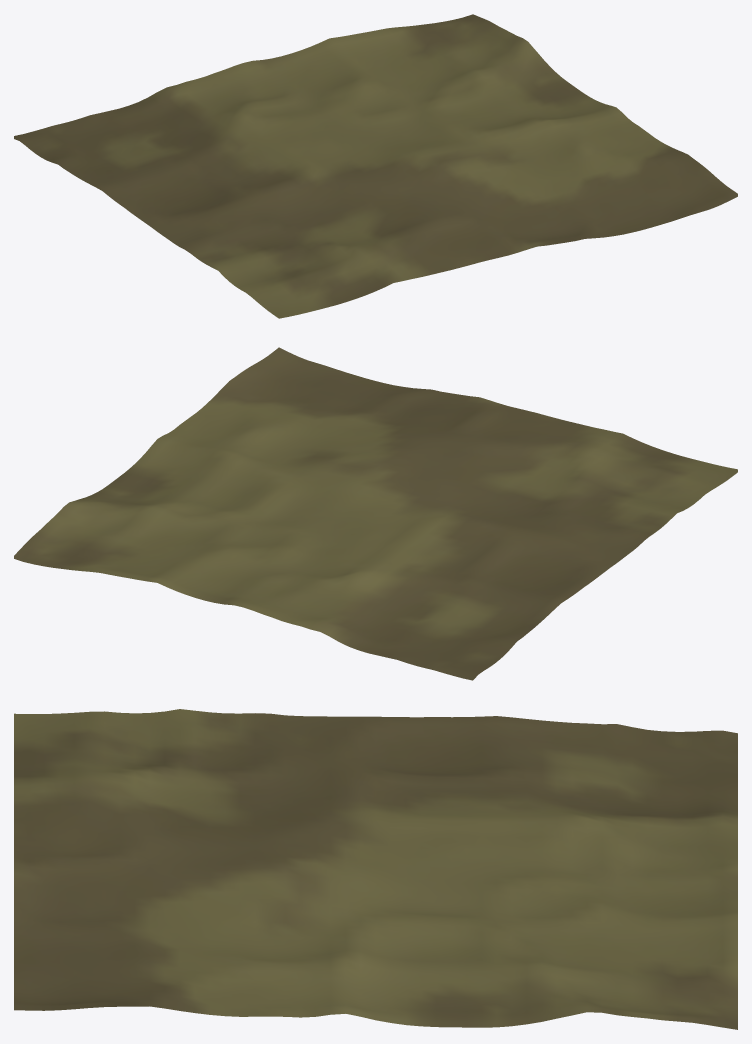
Rendered from land_m_13_05.glb.
3 renders of one model, top to bottom at view 1: azimuth 30°, elevation 25°; view 2: azimuth 150°, elevation 25°; view 3: azimuth 270°, elevation 25°, orthographic. The views are drawn at different scales.
Visible parts, largest first — view 1: land_m_13_05; view 2: land_m_13_05; view 3: land_m_13_05.
Part boxes in pixels (x1,y1,x2,y2): land_m_13_05: [14, 14, 737, 318]; land_m_13_05: [14, 347, 737, 680]; land_m_13_05: [14, 709, 737, 1029].
Size of the model in its own units: 960 by 62.35 by 960.
